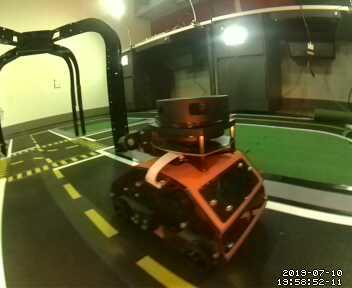pheeno: (109, 95, 271, 270)
